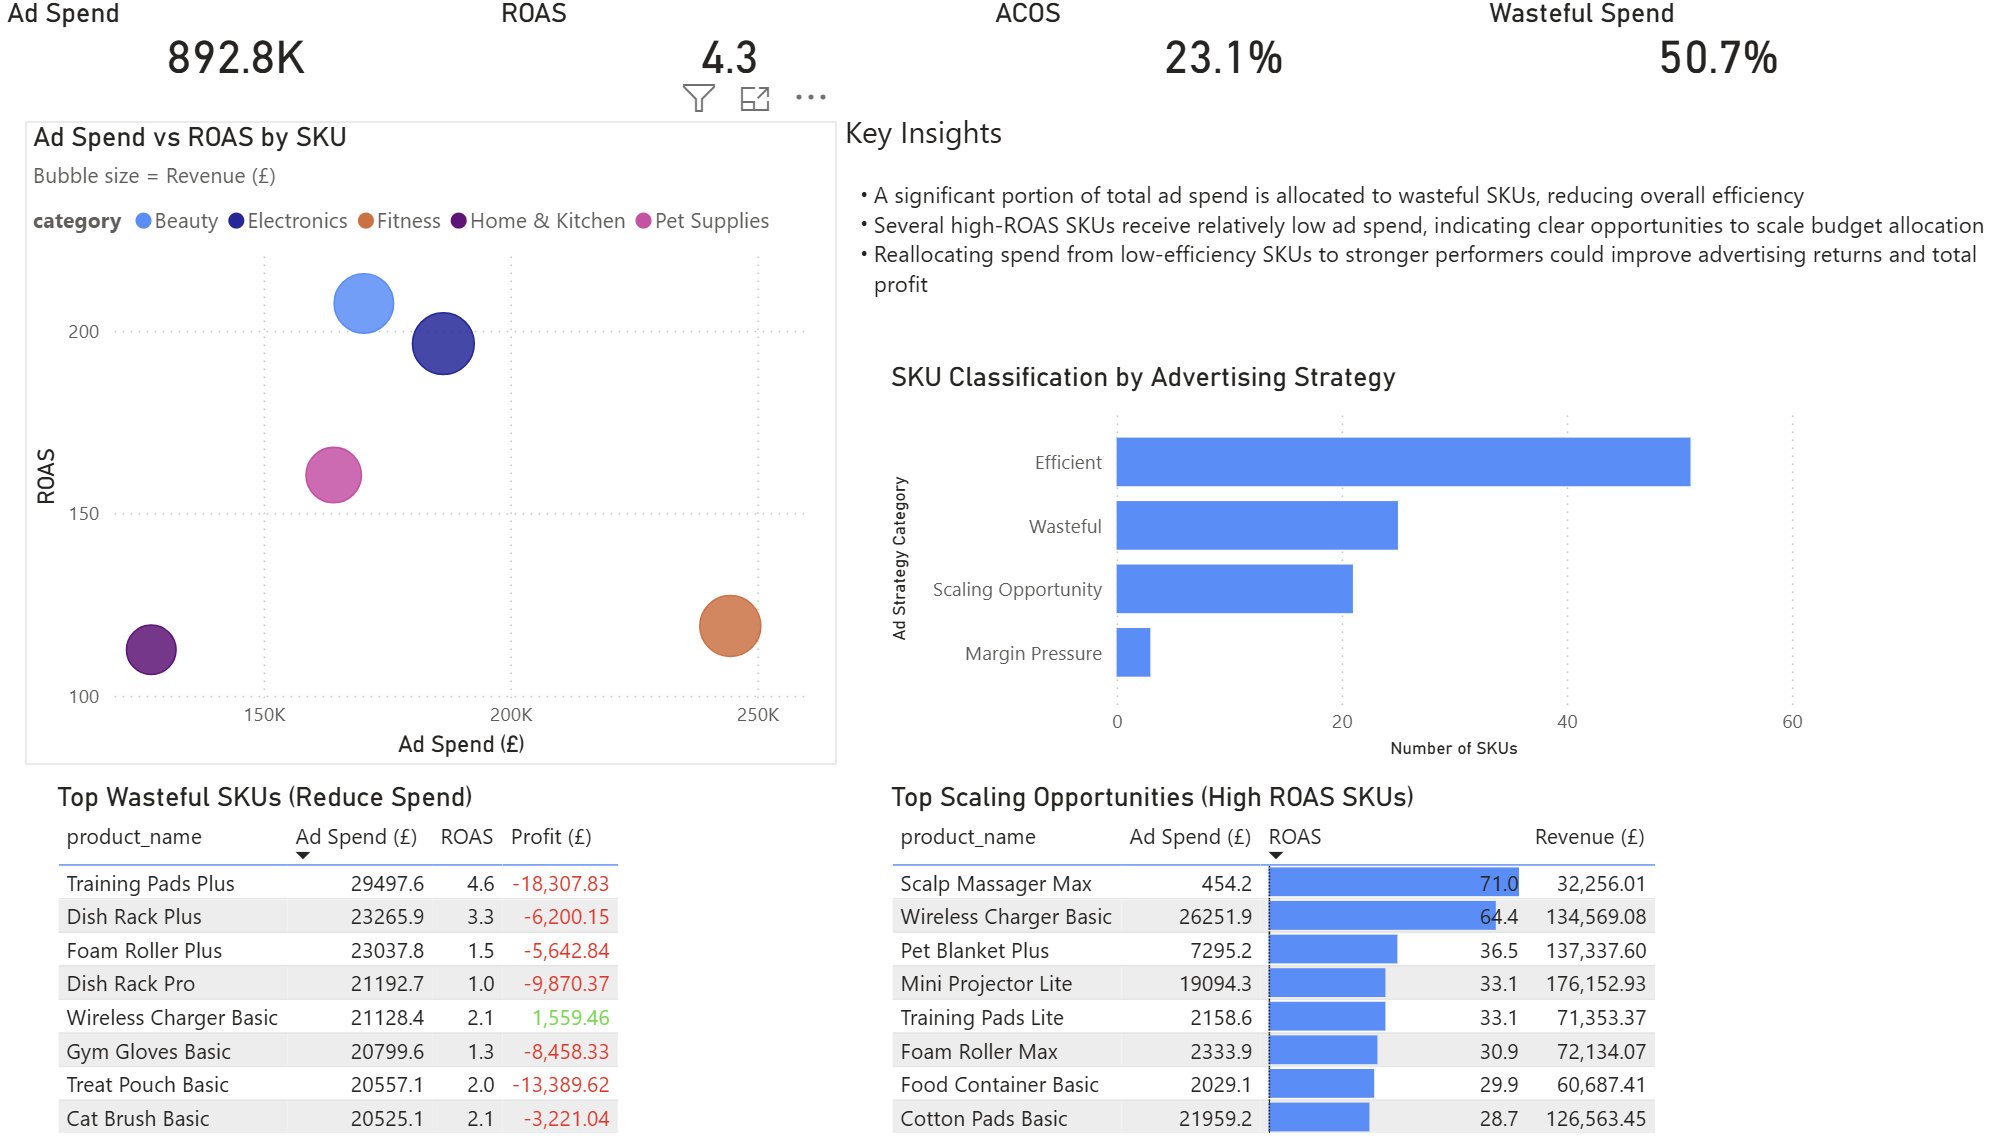

This screenshot's page, from the dashboard's own definition file:
{"tool":"powerbi","page":{"name":"Product & Advertising Opportunities","canvas":[1280,720],"ordinal":2},"visuals":[{"type":"card","title":"Ad Spend","fields":{"Values":["Sum(sku_summary.ad_spend)"]},"box":[10,0,296.2,52.5],"z":0},{"type":"card","title":"ROAS","fields":{"Values":["daily_performance.ROAS KPI"]},"box":[318.9,0,296,52.5],"z":1},{"type":"card","title":"ACOS","fields":{"Values":["sku_summary.ACOS KPI"]},"box":[627.6,0,296,52.5],"z":2},{"type":"card","title":"Wasteful Spend","fields":{"Values":["sku_summary.Wasteful Spend %"]},"box":[936.2,0,296,52.5],"z":3},{"type":"tableEx","title":"Top Wasteful SKUs (Reduce Spend)","fields":{"Values":["sku_summary.product_name","Sum(sku_summary.ad_spend)","Sum(sku_summary.roas)","Sum(sku_summary.profit)"]},"box":[41.2,490,462.5,230],"z":5},{"type":"tableEx","title":"Top Scaling Opportunities (High ROAS SKUs)","fields":{"Values":["sku_summary.product_name","Sum(sku_summary.ad_spend)","Sum(sku_summary.roas)","Sum(sku_summary.revenue)"]},"box":[562.5,490,610,230],"z":6},{"type":"textbox","box":[533.8,66.2,731.2,142.5],"z":7},{"type":"scatterChart","title":"Ad Spend vs ROAS by SKU","fields":{"X":["Sum(sku_summary.ad_spend)"],"Y":["Sum(sku_summary.roas)"],"Size":["Sum(sku_summary.revenue)"],"Series":["sku_summary.category"]},"box":[26.2,77.5,507.5,402.5],"z":8},{"type":"barChart","title":"SKU Classification by Advertising Strategy","fields":{"Category":["sku_summary.Ad Strategy Category"],"Y":["CountNonNull(sku_summary.product_id)"]},"box":[562.5,227.5,580,252.5],"z":9}]}

Visuals, with their boxes in screenshot pixels (x1, y1, x2, y2), scaled from the page's 1280x720 canvas onto the 1992x1148 screenshot:
"Ad Spend" card: l=16, t=0, r=477, b=84
"ROAS" card: l=496, t=0, r=957, b=84
"ACOS" card: l=977, t=0, r=1437, b=84
"Wasteful Spend" card: l=1457, t=0, r=1918, b=84
"Top Wasteful SKUs (Reduce Spend)" tableEx: l=64, t=781, r=784, b=1147
"Top Scaling Opportunities (High ROAS SKUs)" tableEx: l=875, t=781, r=1825, b=1147
textbox: l=831, t=106, r=1969, b=333
"Ad Spend vs ROAS by SKU" scatterChart: l=41, t=124, r=831, b=765
"SKU Classification by Advertising Strategy" barChart: l=875, t=363, r=1778, b=765
